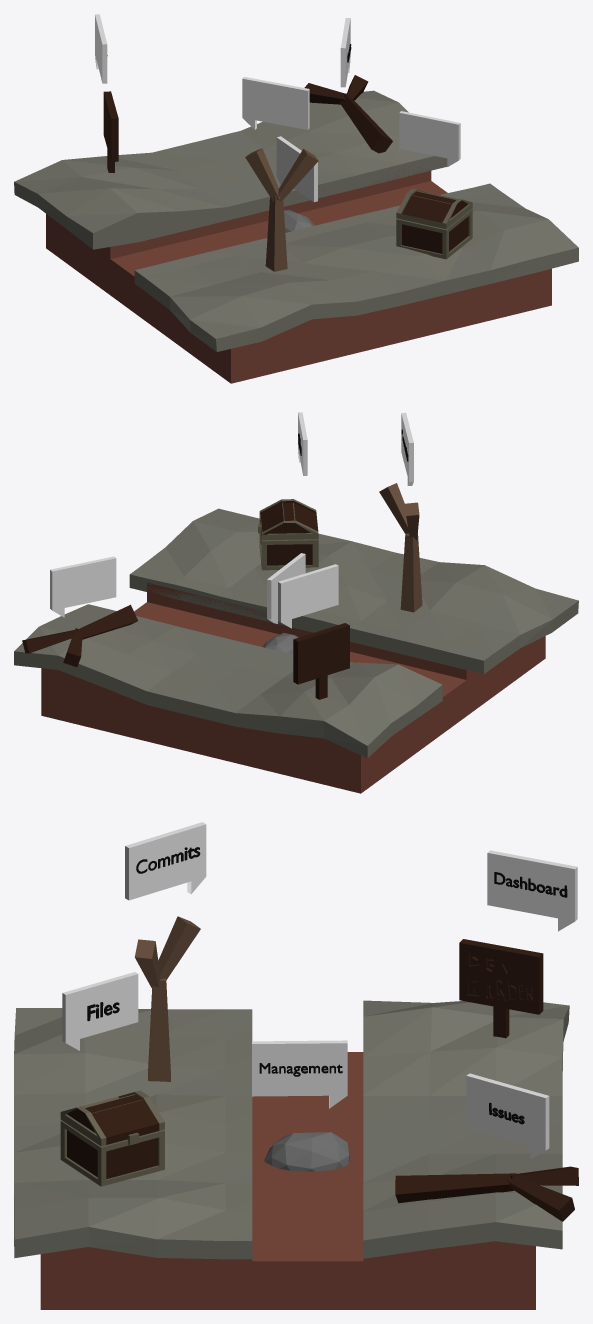
The model's file is terrain3.glb.
3 views of the same model, one above another, from view 1: azimuth 30°, elevation 25°; view 2: azimuth 150°, elevation 25°; view 3: azimuth 270°, elevation 25° (orthographic). The views are drawn at different scales.
Parts seen in each view (by area): view 1: GrassObject, TerrainObject, Chest, SpeechArbre, TroncObject, SpeechChest, TroncBruleObject, SpeechRock, PlaqueObject, SpeechPlaque, SpeechArbustre; view 2: GrassObject, TerrainObject, Chest, SpeechArbustre, PlaqueObject, SpeechPlaque, TroncObject, TroncBruleObject, SpeechRock, SpeechArbre, SpeechChest; view 3: GrassObject, TerrainObject, Chest, PlaqueObject, SpeechRock, TroncBruleObject, SpeechPlaque, SpeechArbustre, SpeechArbre, TroncObject, SpeechChest, Icosphere.006.
Boxes of the visible parts, x1=… form: GrassObject: x1=14, y1=90, x2=578, y2=351; TerrainObject: x1=46, y1=166, x2=551, y2=383; Chest: x1=396, y1=188, x2=472, y2=259; SpeechArbre: x1=242, y1=76, x2=309, y2=129; TroncObject: x1=245, y1=148, x2=318, y2=271; SpeechChest: x1=399, y1=111, x2=460, y2=166; TroncBruleObject: x1=304, y1=75, x2=392, y2=153; SpeechRock: x1=276, y1=136, x2=317, y2=202; PlaqueObject: x1=103, y1=91, x2=118, y2=161; SpeechPlaque: x1=95, y1=14, x2=107, y2=83; SpeechArbustre: x1=340, y1=18, x2=350, y2=87; GrassObject: x1=14, y1=508, x2=578, y2=758; TerrainObject: x1=41, y1=582, x2=545, y2=793; Chest: x1=258, y1=499, x2=318, y2=570; SpeechArbustre: x1=50, y1=556, x2=116, y2=617; PlaqueObject: x1=293, y1=623, x2=349, y2=684; SpeechPlaque: x1=278, y1=564, x2=338, y2=628; TroncObject: x1=379, y1=483, x2=422, y2=612; TroncBruleObject: x1=22, y1=604, x2=137, y2=667; SpeechRock: x1=267, y1=553, x2=305, y2=623; SpeechArbre: x1=401, y1=412, x2=413, y2=485; SpeechChest: x1=298, y1=412, x2=307, y2=475; GrassObject: x1=14, y1=1000, x2=569, y2=1259; TerrainObject: x1=40, y1=1052, x2=535, y2=1309; Chest: x1=60, y1=1090, x2=164, y2=1186; PlaqueObject: x1=459, y1=939, x2=543, y2=1014; SpeechRock: x1=252, y1=1040, x2=347, y2=1108; TroncBruleObject: x1=395, y1=1166, x2=578, y2=1221; SpeechPlaque: x1=487, y1=850, x2=577, y2=931; SpeechArbustre: x1=466, y1=1073, x2=549, y2=1158; SpeechArbre: x1=125, y1=822, x2=206, y2=900; TroncObject: x1=134, y1=916, x2=200, y2=1081; SpeechChest: x1=62, y1=972, x2=138, y2=1050; Icosphere.006: x1=264, y1=1132, x2=349, y2=1171.
Bounding box in the file's own units: 13.56 × 8.7 × 13.69.
